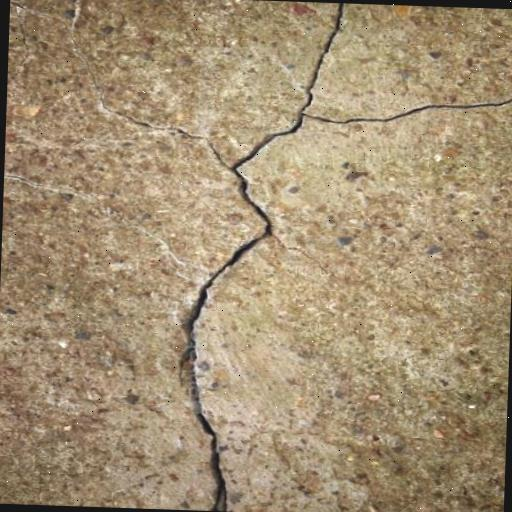spalling: (175, 3, 512, 506)
